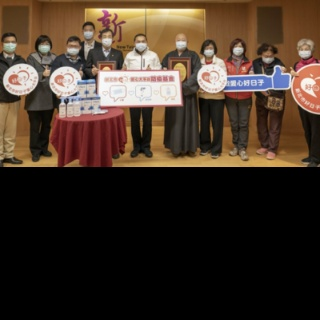with_mask: (298, 46, 312, 60), (3, 40, 16, 52), (135, 39, 147, 52), (101, 34, 112, 48), (261, 53, 275, 64), (68, 44, 80, 56), (232, 44, 244, 56), (176, 37, 187, 50), (39, 42, 50, 54), (84, 28, 94, 40), (204, 46, 214, 57)
